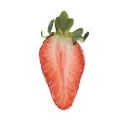strawberry: (39, 15, 87, 109)
